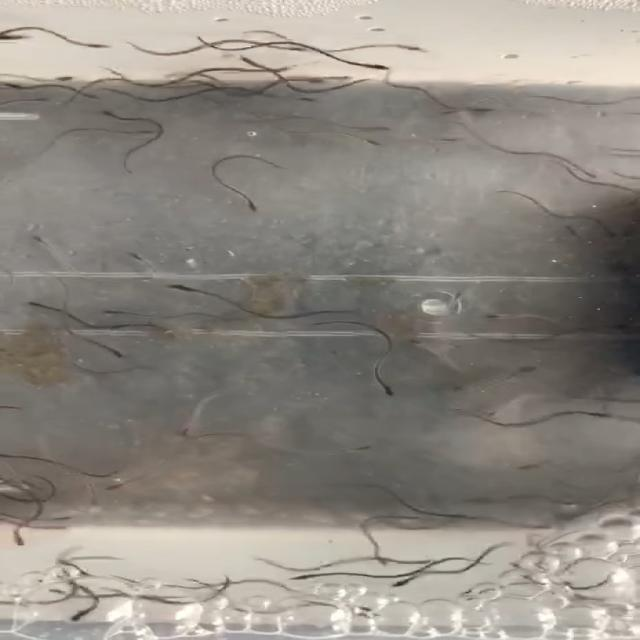active_glass_eel: (0, 27, 49, 48), (356, 132, 397, 154), (31, 68, 74, 88), (344, 56, 388, 75), (332, 440, 384, 455), (95, 341, 132, 361), (76, 38, 112, 58), (266, 39, 311, 55), (175, 417, 206, 440), (0, 527, 31, 550), (84, 105, 123, 123), (383, 39, 426, 55), (341, 606, 377, 625), (479, 308, 514, 327), (82, 490, 115, 510), (283, 571, 343, 582), (286, 56, 326, 72), (370, 377, 402, 397), (68, 599, 95, 621), (232, 52, 269, 68), (235, 197, 266, 216), (443, 288, 472, 308), (162, 280, 198, 296), (365, 550, 397, 568), (15, 300, 56, 314), (278, 74, 330, 85), (573, 165, 606, 182), (96, 304, 136, 318), (34, 582, 74, 596), (324, 71, 356, 88), (385, 574, 426, 587), (406, 336, 435, 354), (19, 91, 56, 105), (290, 94, 327, 108), (434, 104, 471, 118), (336, 602, 397, 610), (502, 366, 542, 378), (471, 105, 502, 120), (120, 252, 149, 268), (122, 124, 164, 135), (37, 521, 75, 533), (423, 135, 465, 145), (31, 235, 55, 251), (118, 159, 138, 178), (480, 408, 507, 421), (368, 124, 397, 136), (66, 91, 102, 100), (48, 514, 89, 521), (108, 480, 125, 492)
